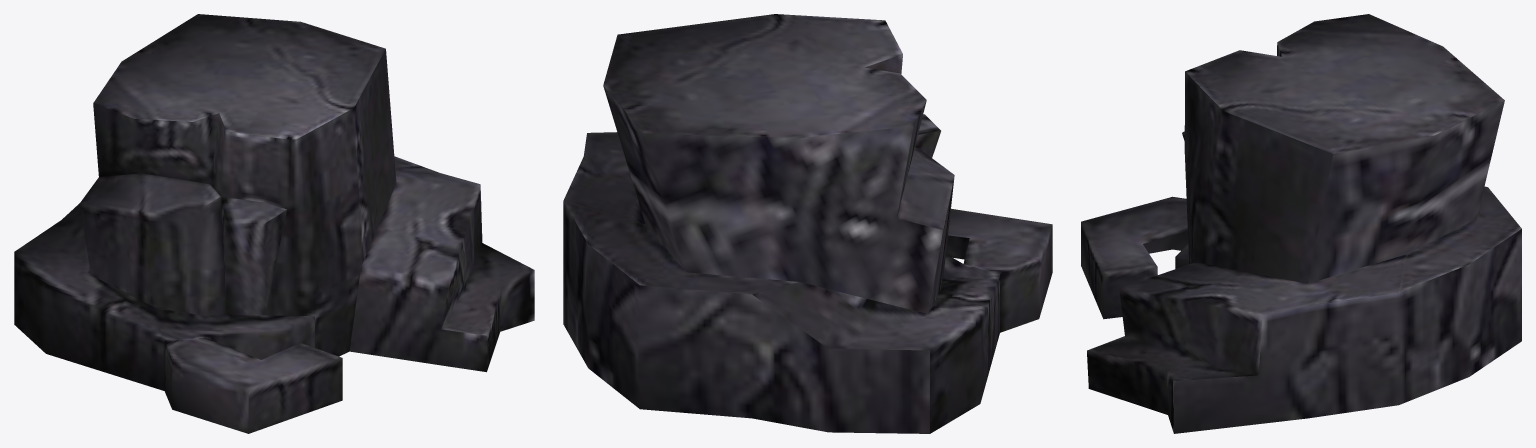
Rendered from Treasure_Stone_02.FBX.
3 views of the same model, side by side, from view 1: azimuth 30°, elevation 25°; view 2: azimuth 150°, elevation 25°; view 3: azimuth 270°, elevation 25° (orthographic). The views are drawn at different scales.
Visible parts, largest first — view 1: Treasure_Stone_02; view 2: Treasure_Stone_02; view 3: Treasure_Stone_02.
Part boxes in pixels (left/top/right/bottom): Treasure_Stone_02: left=14, top=14, right=534, bottom=433; Treasure_Stone_02: left=563, top=14, right=1052, bottom=433; Treasure_Stone_02: left=1081, top=14, right=1521, bottom=433.
Size of the model in its own units: 4.22 by 2.39 by 3.86.
